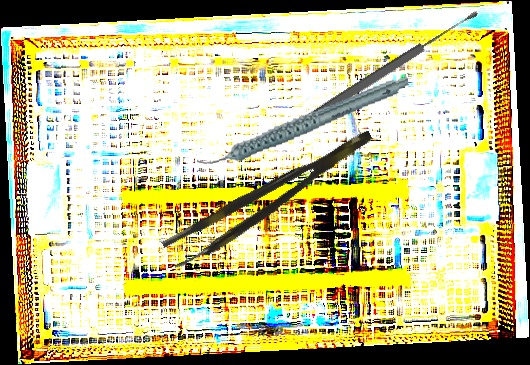Handpiece: (188, 75, 417, 168)
Surgical Spoon: (292, 7, 481, 133)
Tissue Forceps: (160, 126, 384, 273)
